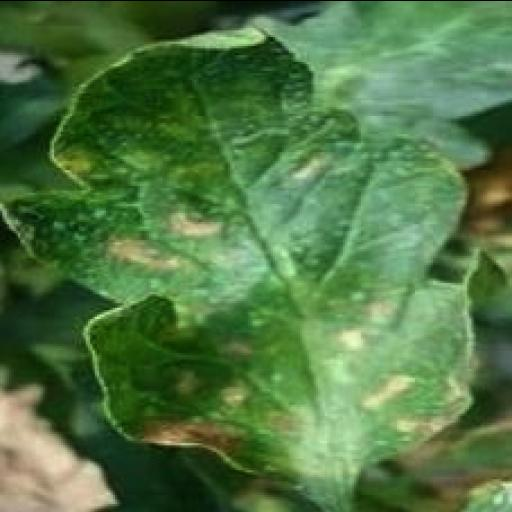disease_tomato: (2, 16, 486, 501)
